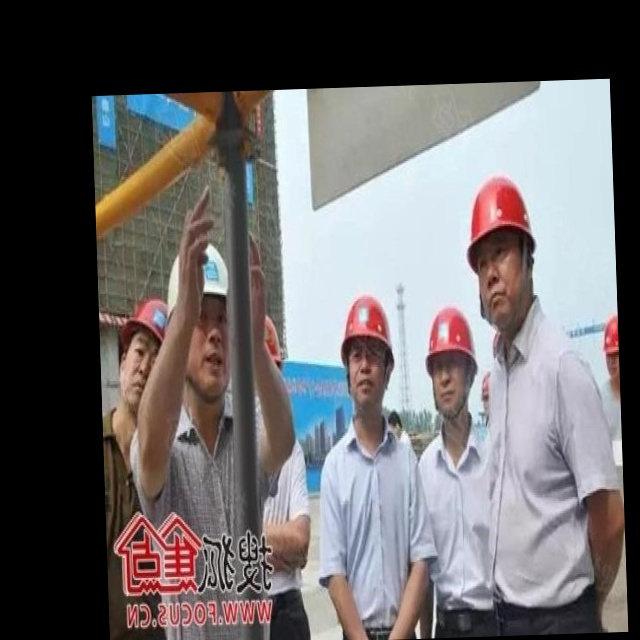Con_Casco: (338, 295, 398, 416), (421, 304, 478, 423)
